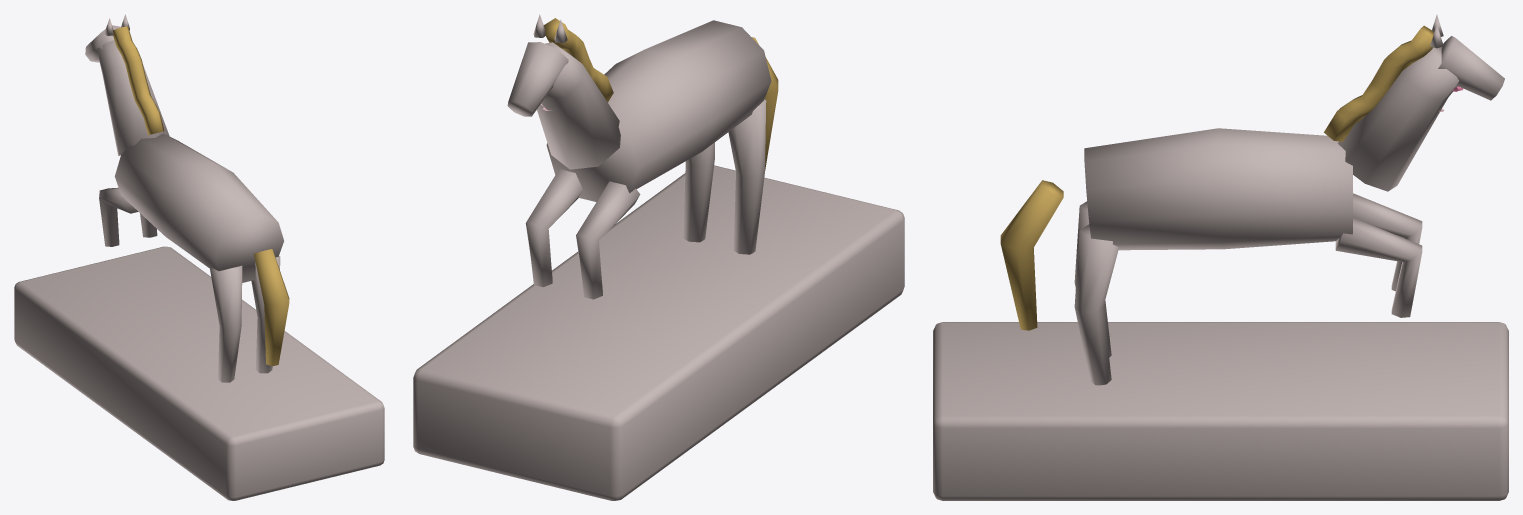
File: horse_statue.glb
The picture shows the model from 3 angles, left to right: view 1: azimuth 30°, elevation 25°; view 2: azimuth 150°, elevation 25°; view 3: azimuth 270°, elevation 25°; orthographic projection. The views are drawn at different scales.
Visible parts, largest first — view 1: horse_statue; view 2: horse_statue; view 3: horse_statue.
Part boxes in pixels (box(x1,y1,x2,y2)): horse_statue: box(14, 14, 384, 500); horse_statue: box(413, 14, 904, 500); horse_statue: box(933, 14, 1508, 500).
Size of what is drawn, in the model's own units: 1 by 2 by 2.4.
